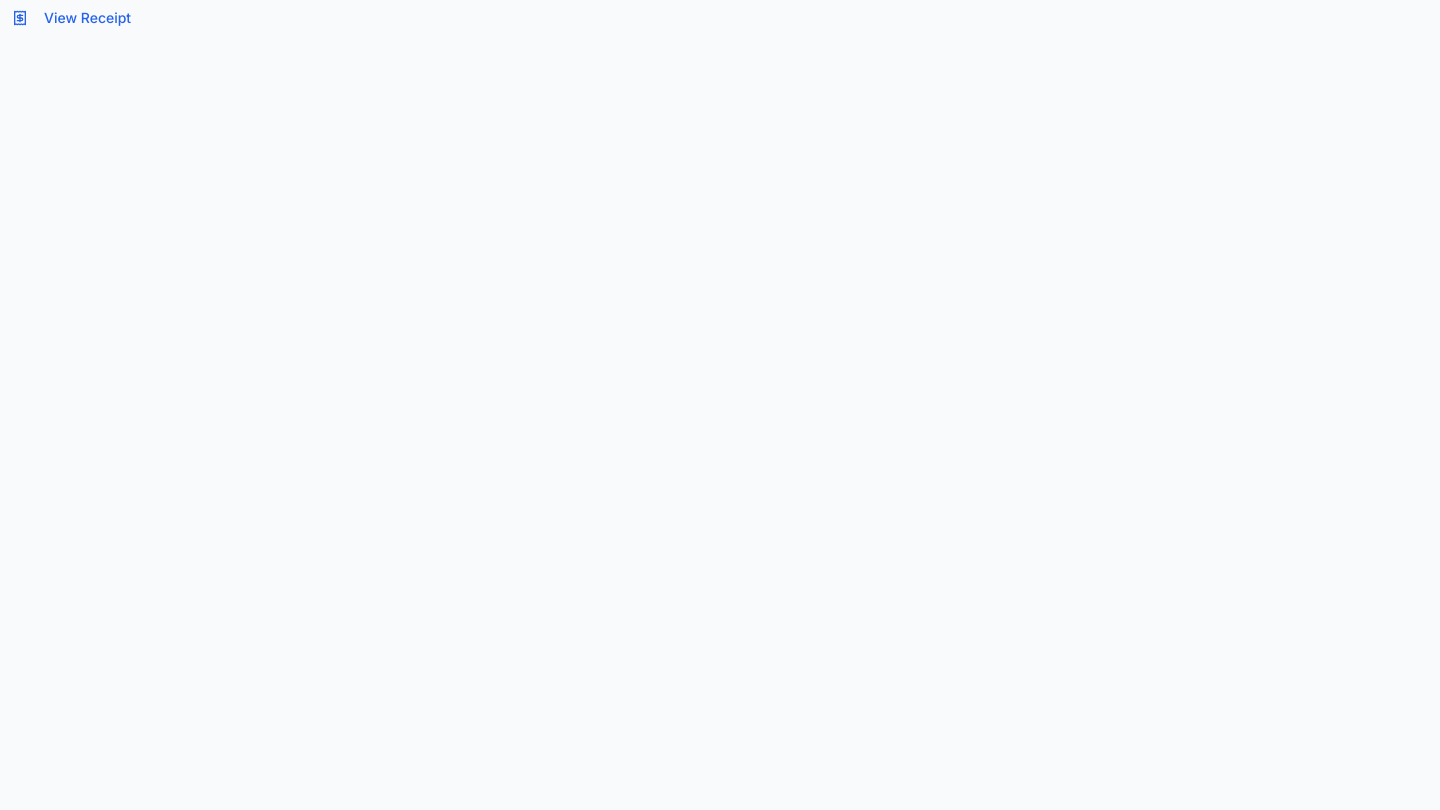
ReceiptViewer › shows download option for unsupported file types
Click the button "View Receipt". click: [72, 18]
box: [0,0,143,36]
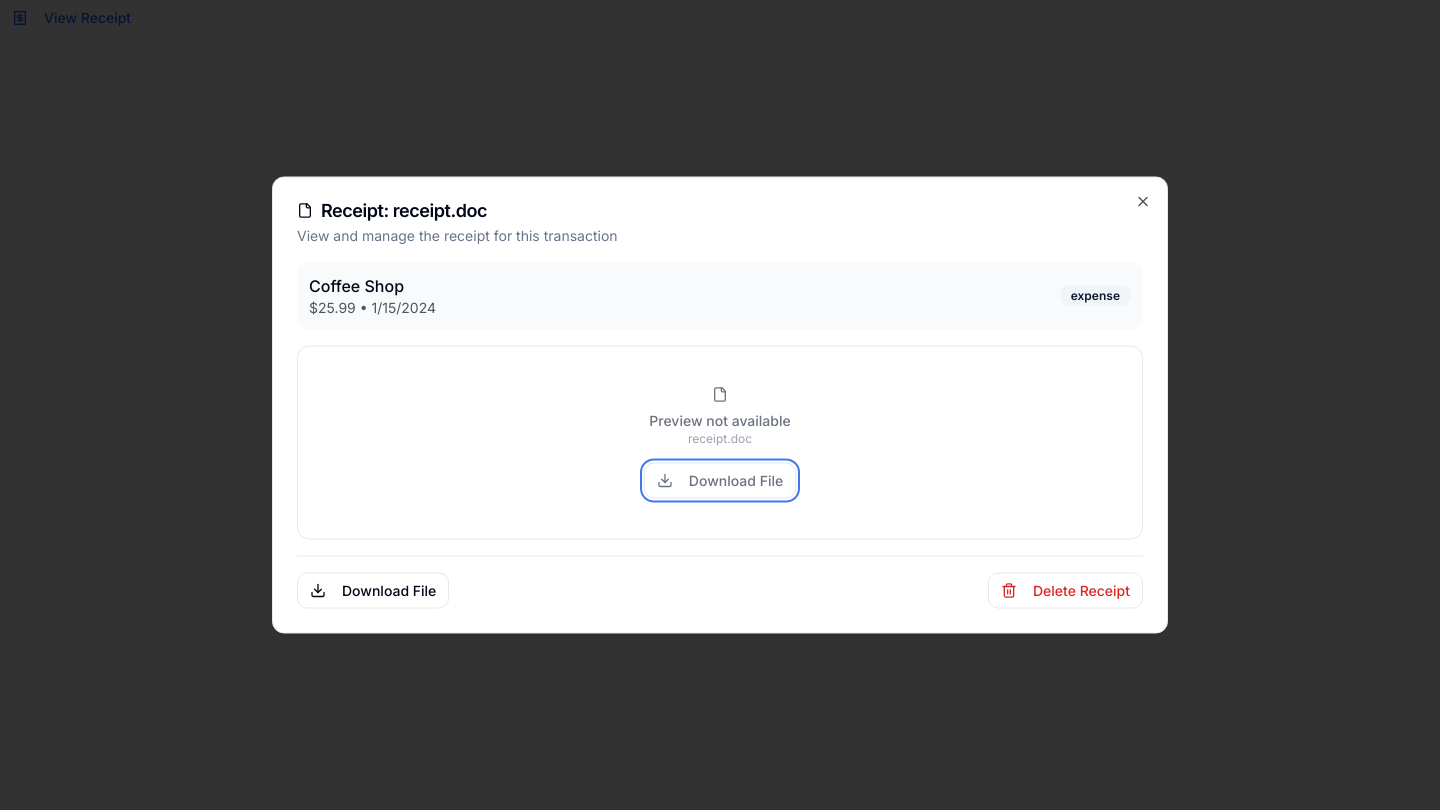
Expected: the text "Preview not available" is shown, [649,410,791,430]
Expected: the text "receipt.doc" is shown, [688,430,752,446]
